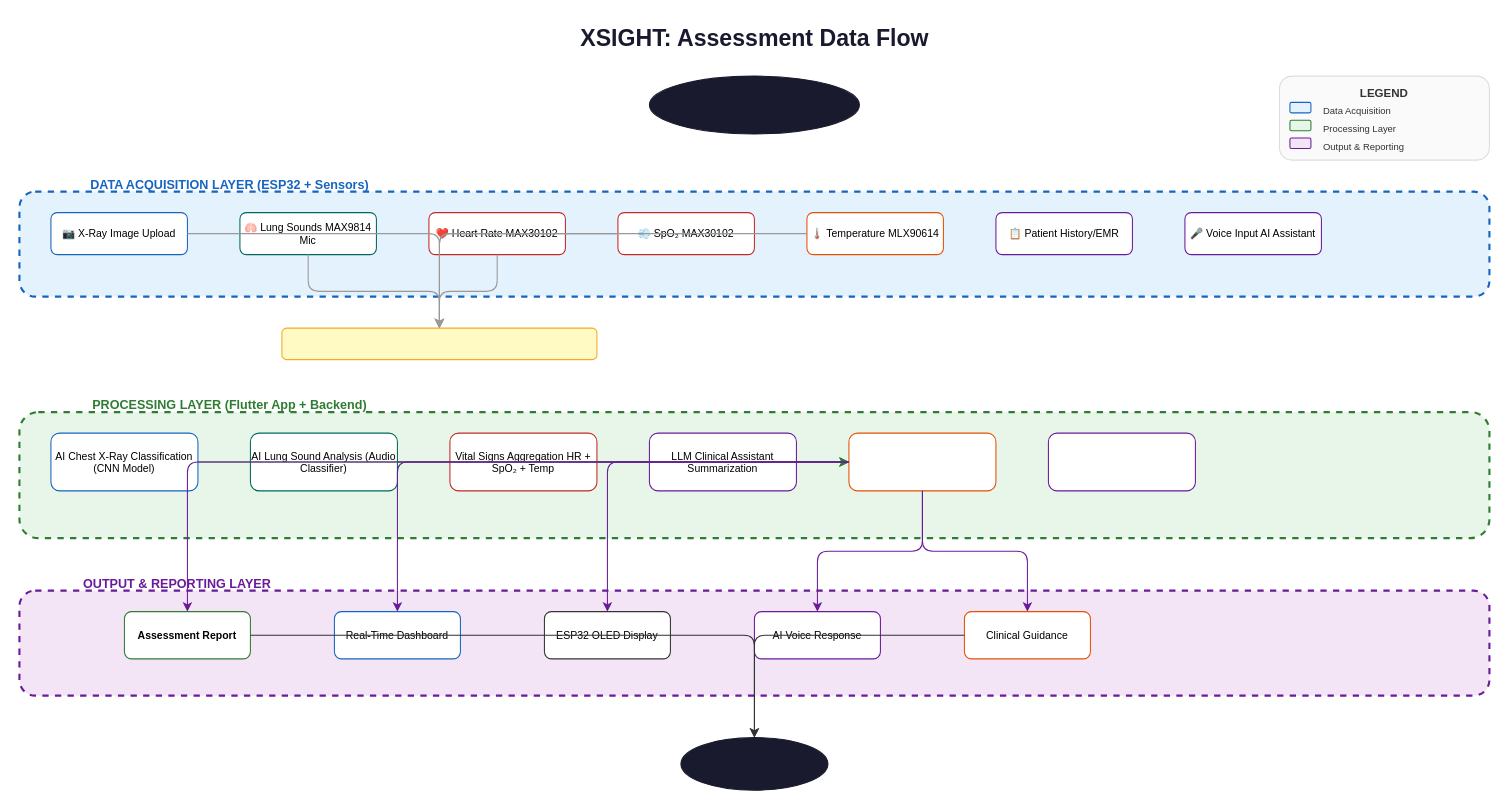
Some shapes in this 1508 by 808 pixel diagram are drawn without their labels. The box of each missing label's shape, as (x1, y1, x2, y2) in pixels:
Assessment Complete: (680, 737, 828, 790)
Clinical Decision Support System (CDSS): (848, 432, 996, 491)
EMR / Patient Record Storage Web Platform: (1047, 432, 1195, 491)
Patient / Guest Arrives at Kiosk: (648, 75, 859, 134)
USB Serial / UART Transport (115200 baud): (281, 327, 597, 360)
